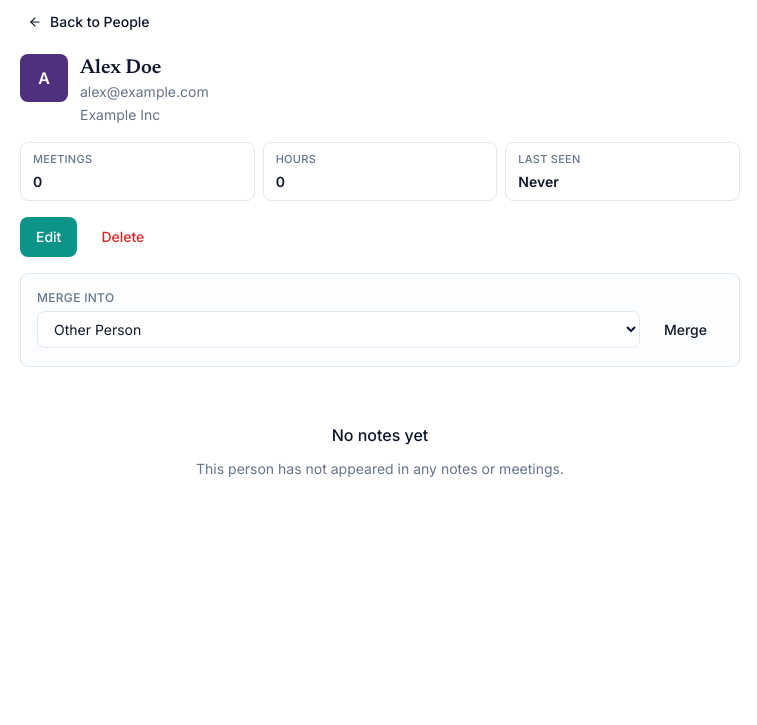
it: PersonDetailScreen › submits edits and updates the displayed name and company
Expected: the heading "Alex Doe" is shown, [80,58,162,78]
Click the button "Edit": (49, 236) [20,216,77,256]
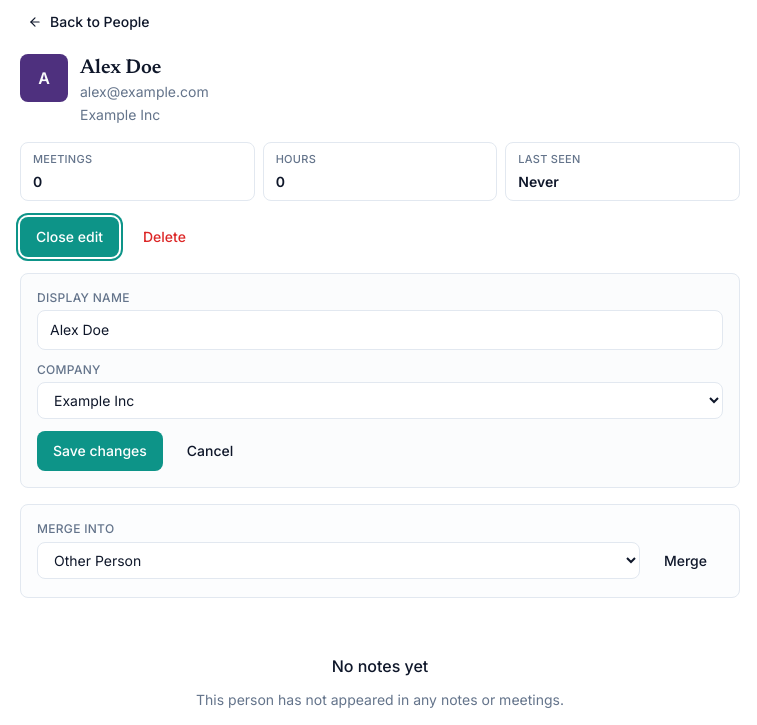
Replace the text in the field labelled "Display name" with "Alex Renamed": (380, 330) [37,310,723,350]
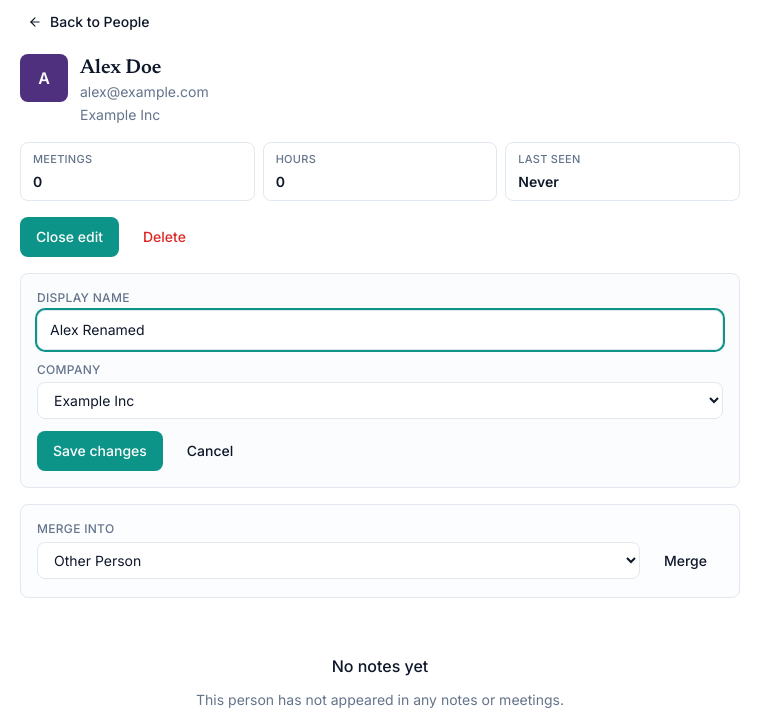
Select "Acme Co" in the dropdown labelled "Company": (380, 400) [37,382,723,418]
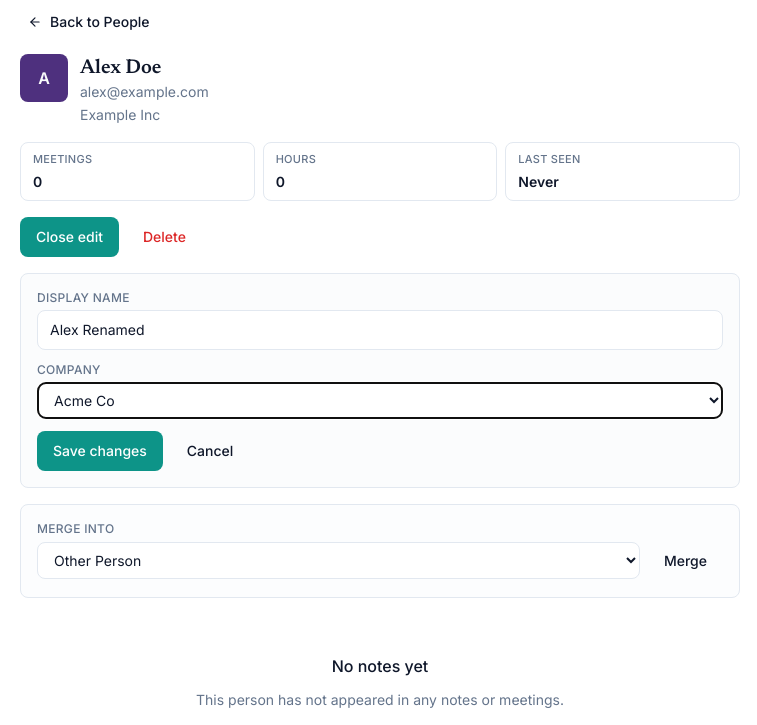
Click the button "Save changes": (100, 450) [37,430,163,470]
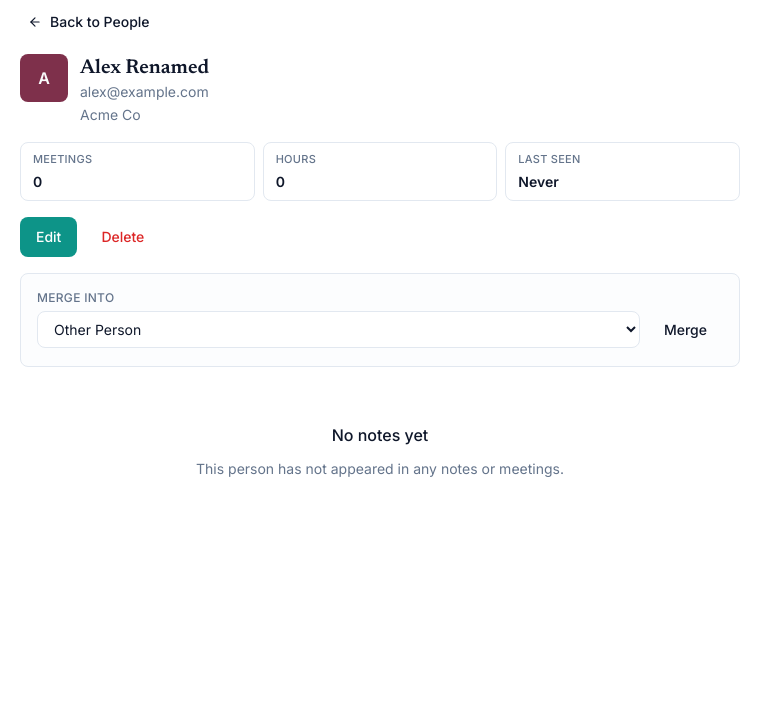
Result: the heading "Alex Renamed" is shown at [80,58,209,78]
Result: the link "Acme Co" is shown at [80,106,141,123]
